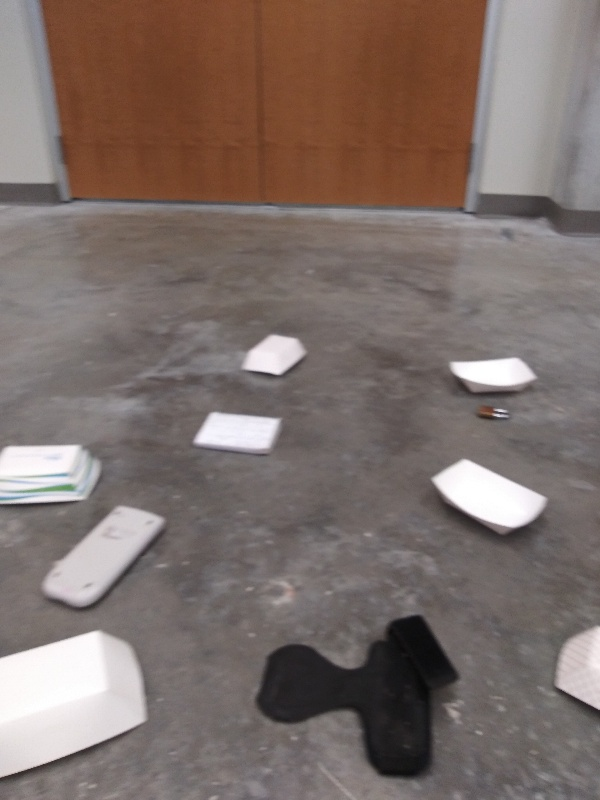plate: (1, 625, 152, 786), (426, 457, 548, 542), (1, 440, 108, 510), (551, 624, 600, 717), (444, 355, 543, 399), (237, 330, 309, 378)
